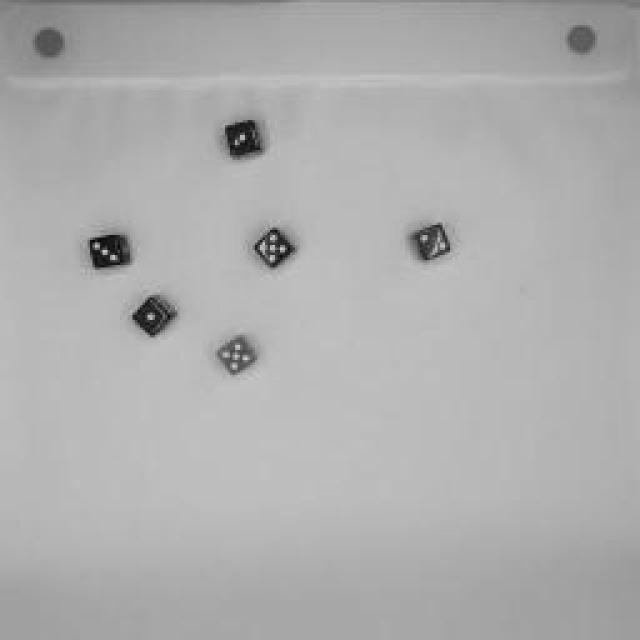dice_1: (124, 289, 191, 346), (220, 116, 272, 166)
dice_2: (405, 215, 460, 270)
dice_3: (81, 226, 134, 274)
dice_5: (249, 221, 301, 274), (215, 332, 265, 380)
